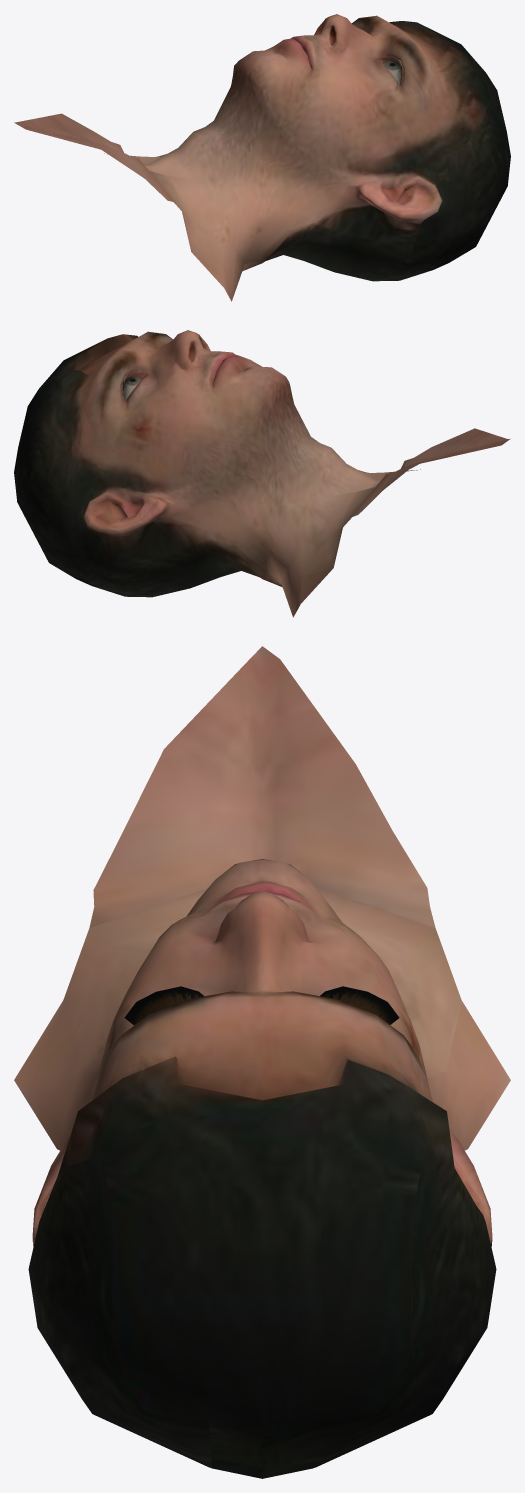
File: head_british_chance.glb
3 views of the same model, one above another, from view 1: azimuth 30°, elevation 25°; view 2: azimuth 150°, elevation 25°; view 3: azimuth 270°, elevation 25° (orthographic). The views are drawn at different scales.
Bounding box in the file's own units: 18.41 × 9.94 × 8.63.
2 materials, 2 textured.
